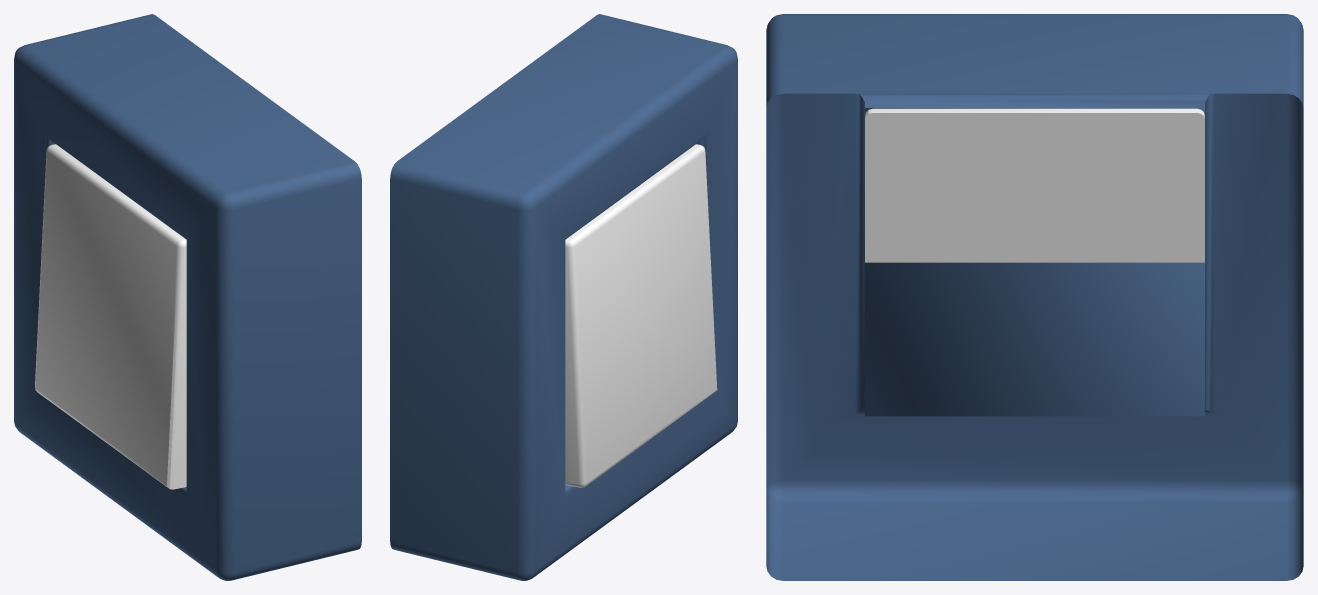
Rendered from interruptor.fbx.
The picture shows the model from 3 angles, left to right: view 1: azimuth 30°, elevation 25°; view 2: azimuth 150°, elevation 25°; view 3: azimuth 270°, elevation 25°; orthographic projection. The views are drawn at different scales.
Visible parts, largest first — view 1: Interruptor, Pulsador; view 2: Interruptor, Pulsador; view 3: Interruptor, Pulsador.
Part boxes in pixels (left/top/right/bottom): Interruptor: left=14, top=14, right=361, bottom=580; Pulsador: left=35, top=144, right=186, bottom=489; Interruptor: left=390, top=14, right=737, bottom=580; Pulsador: left=565, top=144, right=717, bottom=487; Interruptor: left=766, top=14, right=1303, bottom=580; Pulsador: left=865, top=108, right=1204, bottom=262.
Bounding box in the file's own units: 3.37 × 8.05 × 8.05.
